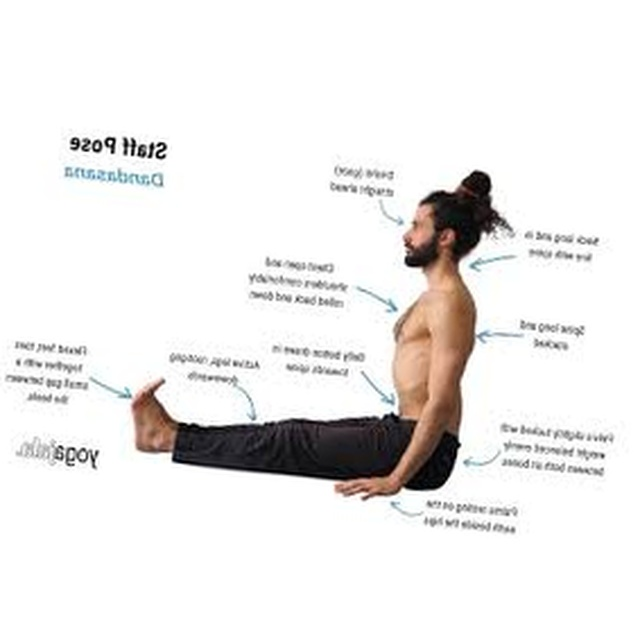Staff_Pose: (131, 168, 520, 503)
